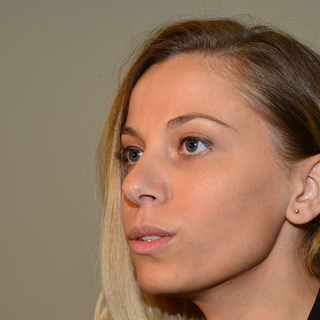eye: (173, 131, 219, 159), (114, 141, 151, 168)
